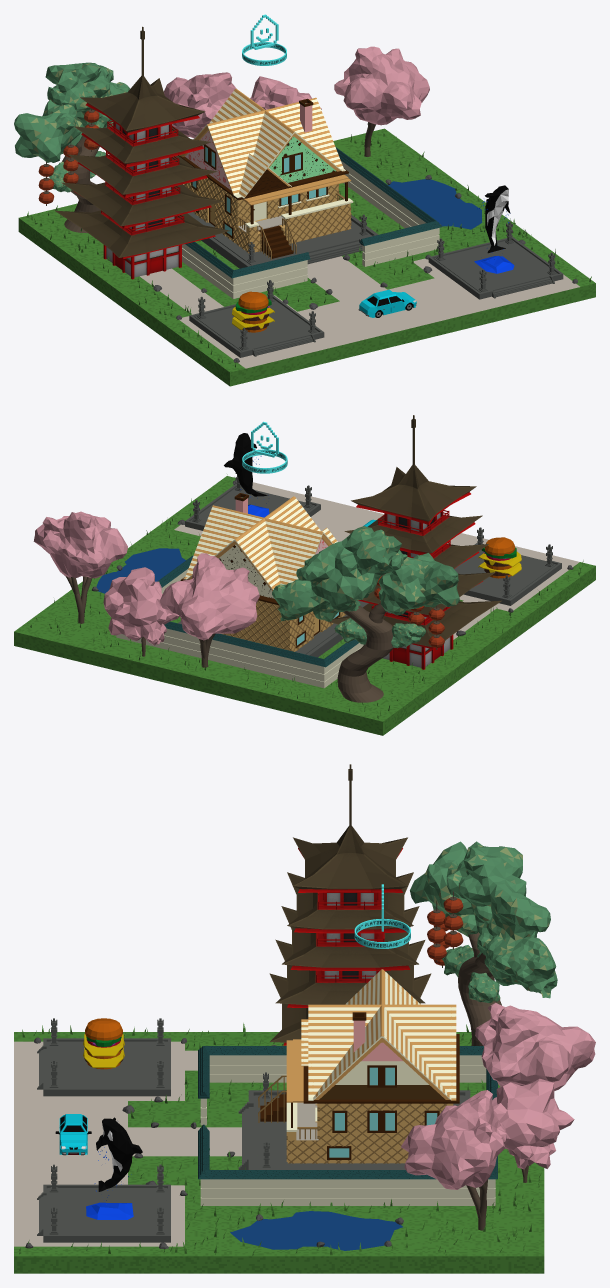
The picture shows the model from 3 angles, top to bottom: view 1: azimuth 30°, elevation 25°; view 2: azimuth 150°, elevation 25°; view 3: azimuth 270°, elevation 25°; orthographic projection. The views are drawn at different scales.
Visible parts, largest first — view 1: Cube.005, Cube.1102, ANIMAL_ORCA, OBJRANDOM_HAMBURGER, VEHICLES_CAR, TYPE_PREMIUM; view 2: Cube.005, Cube.1102, OBJRANDOM_HAMBURGER, ANIMAL_ORCA, TYPE_PREMIUM; view 3: Cube.005, Cube.1102, ANIMAL_ORCA, OBJRANDOM_HAMBURGER, VEHICLES_CAR, TYPE_PREMIUM.
Part boxes in pixels (x1=…): Cube.005: x1=14, y1=26, x2=595, y2=386; Cube.1102: x1=178, y1=88, x2=353, y2=259; ANIMAL_ORCA: x1=474, y1=185, x2=514, y2=273; OBJRANDOM_HAMBURGER: x1=232, y1=291, x2=274, y2=332; VEHICLES_CAR: x1=358, y1=289, x2=416, y2=317; TYPE_PREMIUM: x1=242, y1=14, x2=286, y2=65; Cube.005: x1=14, y1=415, x2=595, y2=735; Cube.1102: x1=180, y1=493, x2=345, y2=651; OBJRANDOM_HAMBURGER: x1=478, y1=537, x2=521, y2=578; ANIMAL_ORCA: x1=224, y1=433, x2=269, y2=517; TYPE_PREMIUM: x1=242, y1=421, x2=287, y2=473; Cube.005: x1=14, y1=764, x2=595, y2=1273; Cube.1102: x1=258, y1=969, x2=459, y2=1163; ANIMAL_ORCA: x1=86, y1=1117, x2=142, y2=1219; OBJRANDOM_HAMBURGER: x1=83, y1=1018, x2=124, y2=1069; VEHICLES_CAR: x1=55, y1=1114, x2=91, y2=1155; TYPE_PREMIUM: x1=354, y1=884, x2=410, y2=948.
Size of the model in its own units: 4528 by 2690 by 4389.
Materials: 43 (7 with a texture image).
